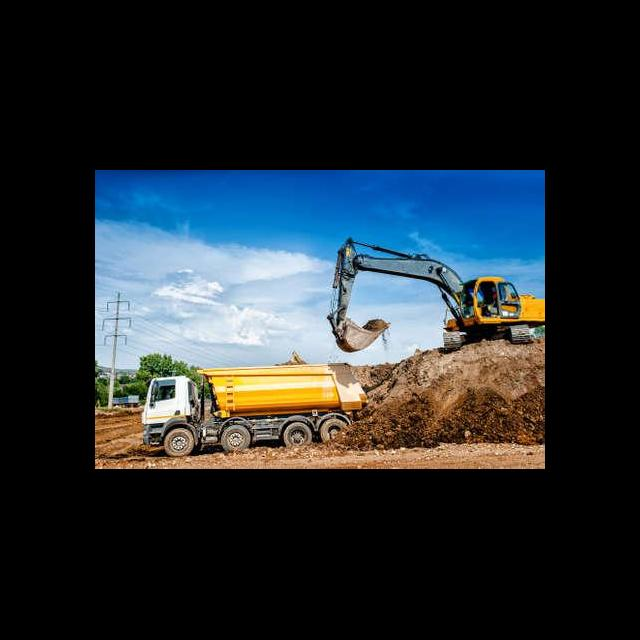Excavator: (327, 236, 544, 358)
Person: (488, 288, 498, 314)
Safety Vest: (493, 292, 499, 302)
dump truck: (141, 364, 371, 452)
